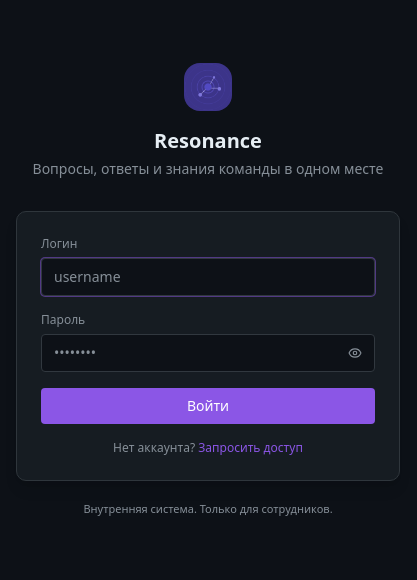
Test case: LoginPage › shows validation when username contains non-Latin characters
Type "юзер" into the field with test id "input-username" at (208, 277), box [41, 258, 375, 296]
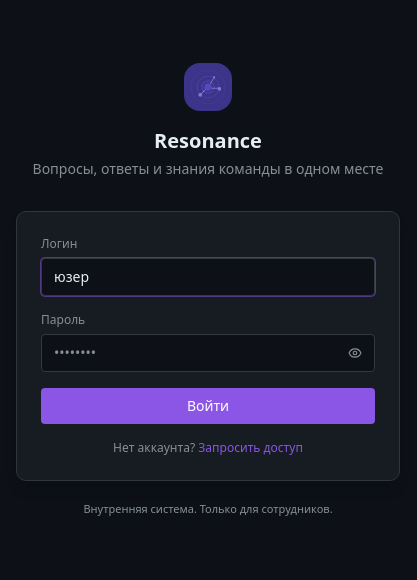
Type "secret1" into the password field with test id "input-password" at (208, 353), box [41, 334, 375, 372]
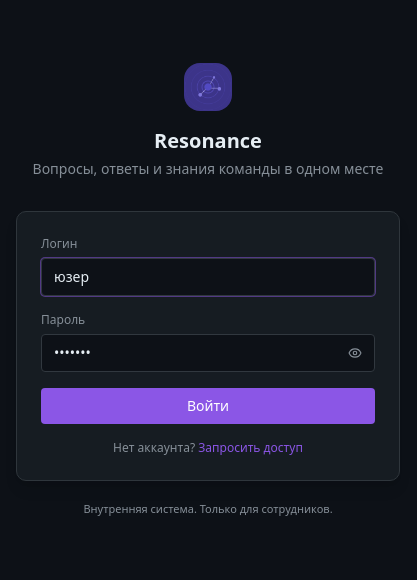
Click the button with test id "button-login" at (208, 406), box [41, 388, 375, 424]
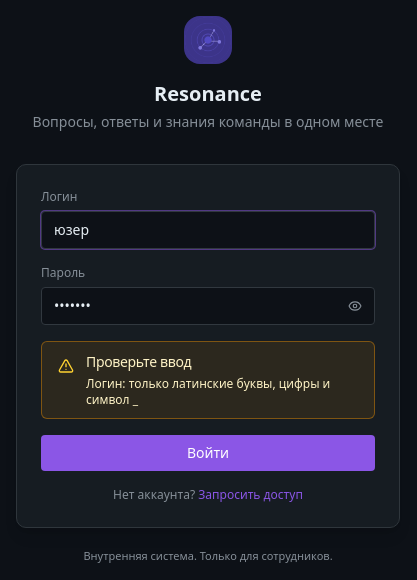
Expected: the message with test id "alert-validation" shows "латинские", [86, 375, 330, 408]
